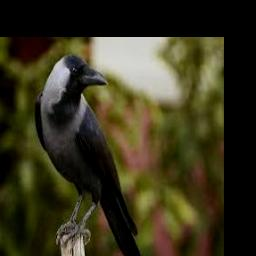Crow: (36, 53, 143, 256)
